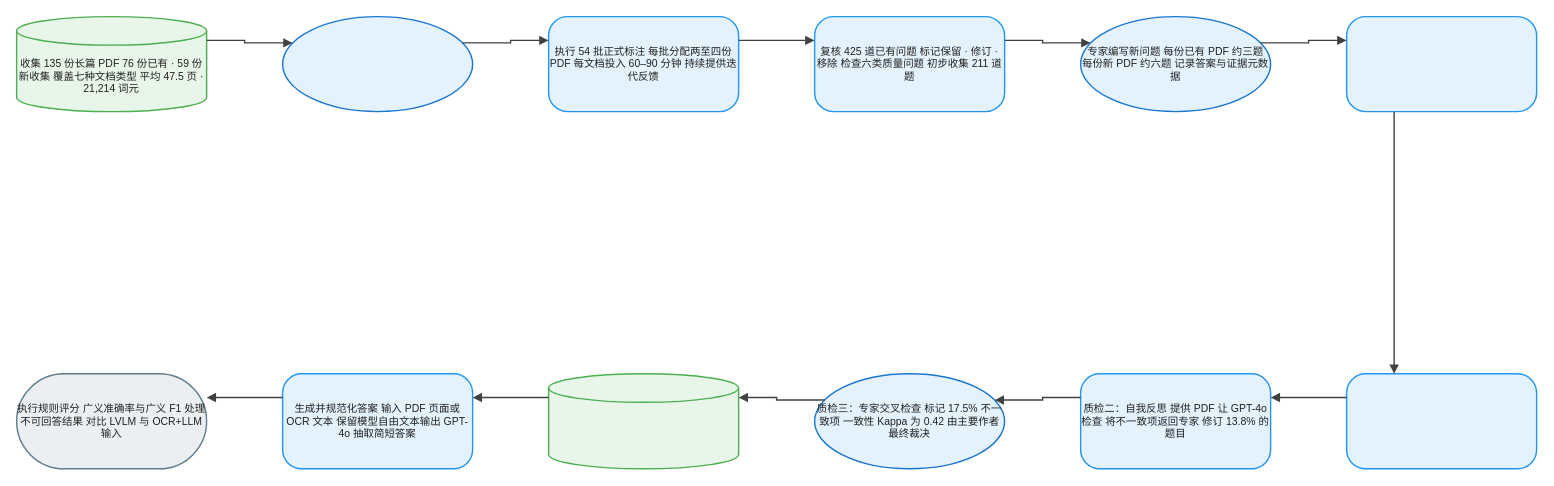
Some shapes in this 1554 by 486 pixel diagram are drawn without their labels. Each missing label, with the box of its shape:
保证问题多样性 单页与跨页证据并存 纳入不可回答问题 使用文本 · 表格 · 图表 · 图像: (1345, 15, 1537, 112)
培训十名专家标注员 均为医生或博士生 要求熟练使用英语 先标注三份文档: (281, 15, 473, 112)
汇总 1,082 道最终题目 184 道来源题 · 898 道新题 494 道单页 · 365 道跨页 223 道不可回答题: (547, 373, 739, 469)
质检一：文档必要性 不提供 PDF 让 GPT-4o 作答 移除 94 道无需文档可答题 确保文档不可替代: (1345, 373, 1537, 469)
